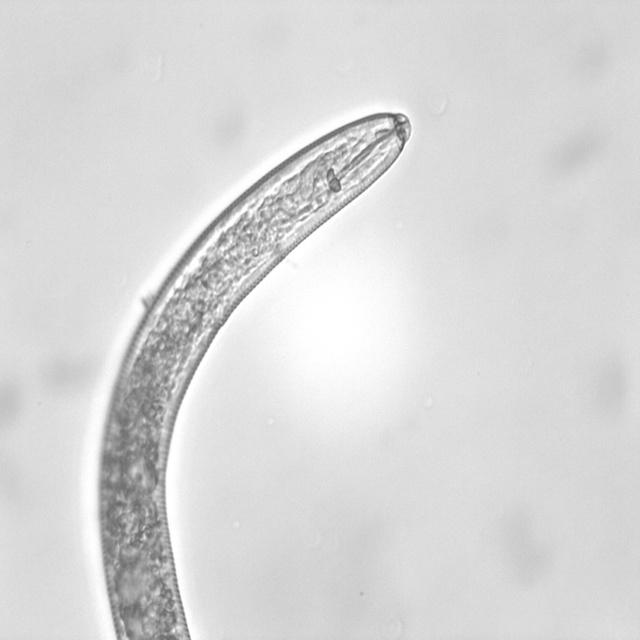Helicotylenchus: (91, 105, 415, 452)
